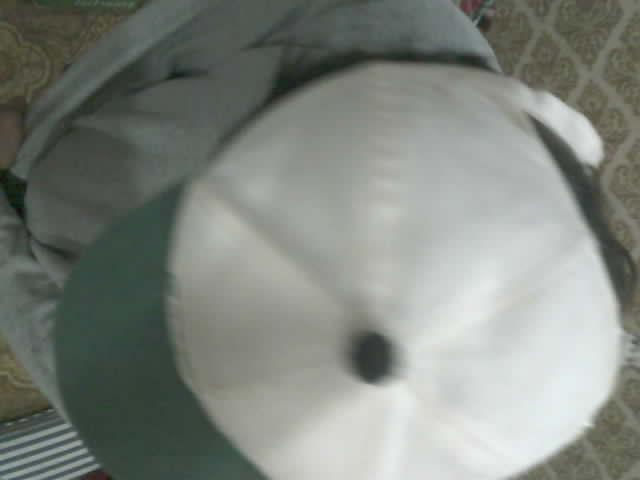cap: (53, 57, 631, 479)
